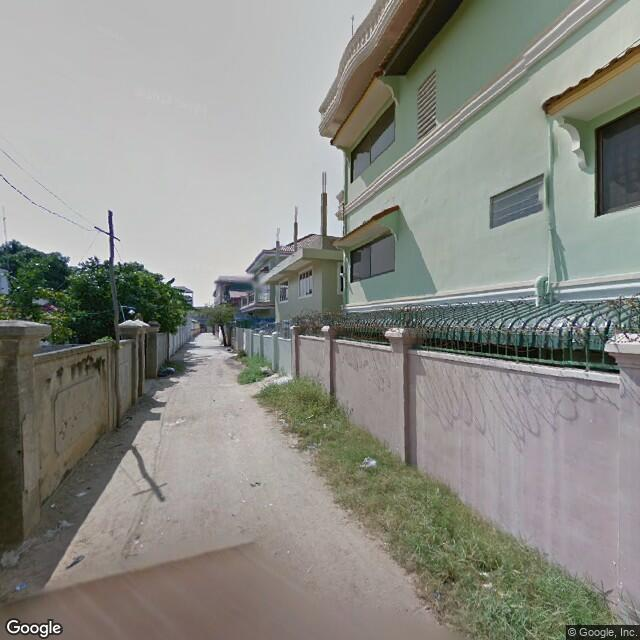litter: (353, 448, 380, 477), (69, 481, 92, 506), (10, 575, 30, 600), (482, 581, 497, 593), (480, 567, 491, 582)
